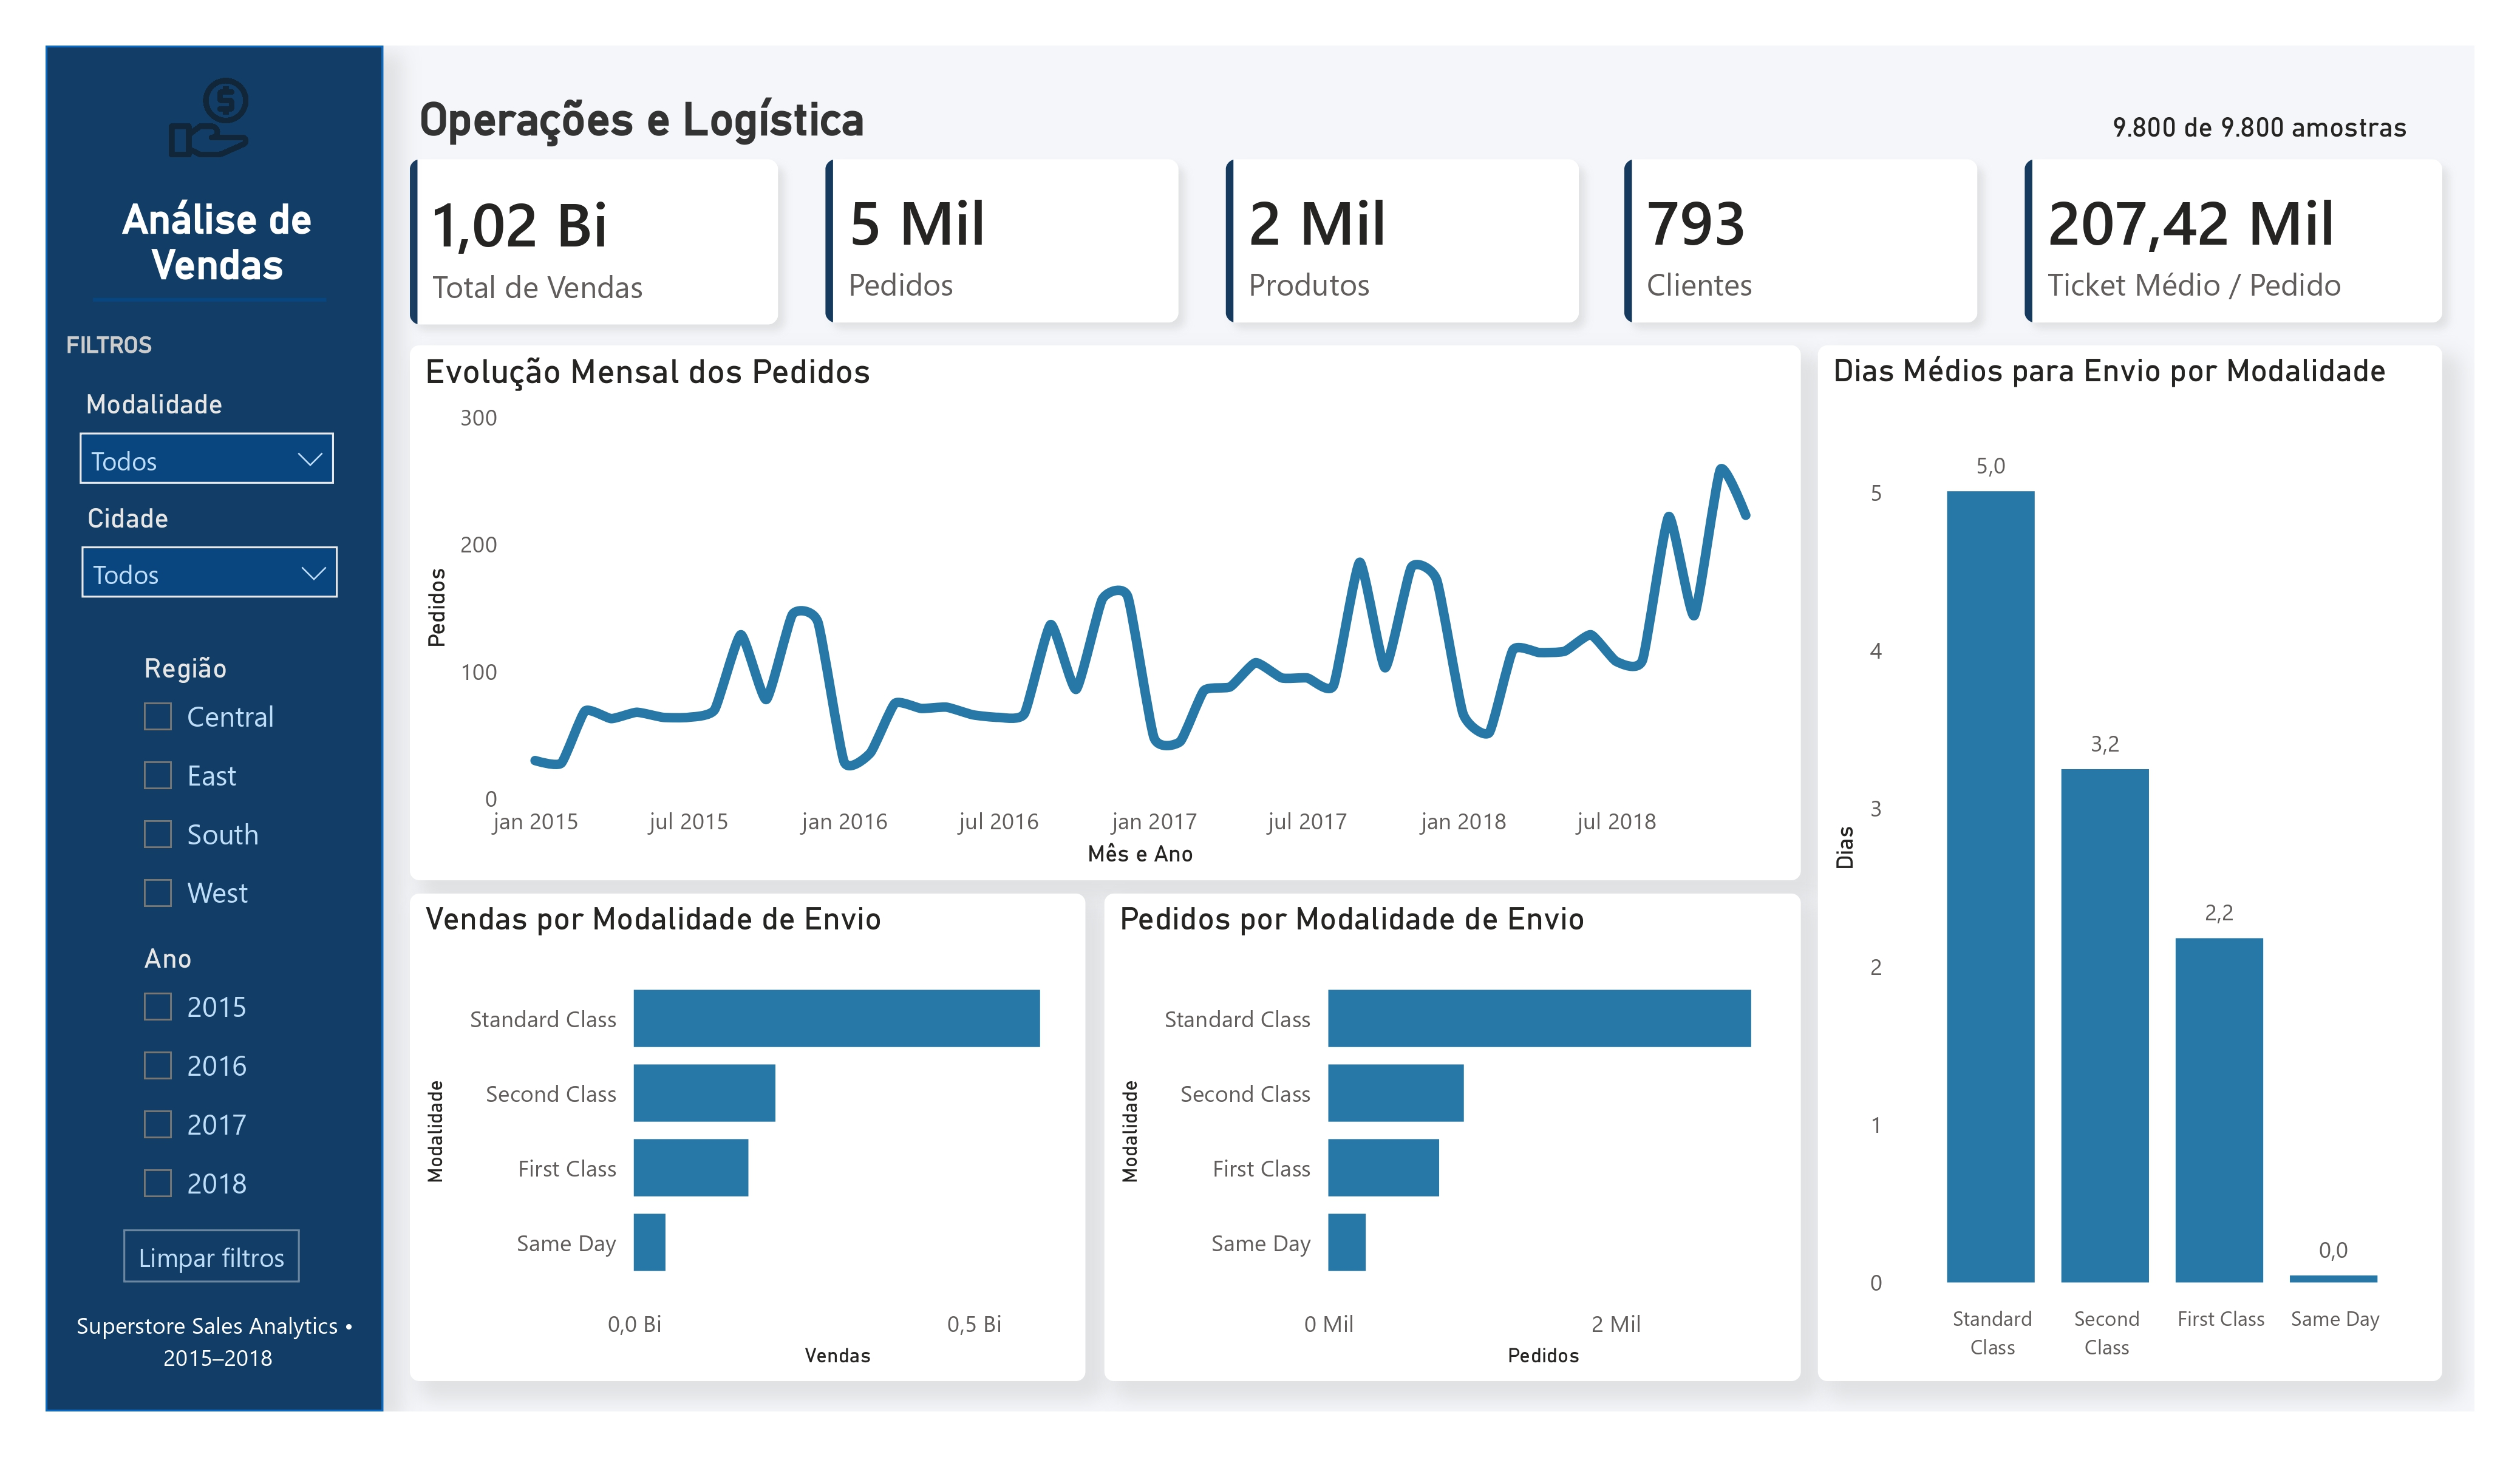

Layout of this report page (visuals, bound fields, positions):
{"tool":"powerbi","page":{"name":"Operações e Logística","canvas":[1280,720],"ordinal":3},"visuals":[{"type":"actionButton","box":[0,0,100,40],"z":0},{"type":"cardVisual","fields":{"Data":["Sum(superstore_sales.Vendas)"]},"box":[175,42.7,228.1,120.8],"z":1000},{"type":"cardVisual","fields":{"Data":["superstore_sales.Pedidos"]},"box":[393.9,42.7,220,120],"z":2000},{"type":"cardVisual","fields":{"Data":["superstore_sales.Clientes_Unico"]},"box":[815.3,42.7,220,120],"z":3000},{"type":"cardVisual","fields":{"Data":["superstore_sales.Produtos_Unico"]},"box":[604.6,42.7,220,120],"z":4000},{"type":"cardVisual","fields":{"Data":["superstore_sales.Ticket_Médio"]},"box":[1025.8,42.7,254.2,119.8],"z":5000},{"type":"shape","title":"Visão Geral","box":[0,0,178.2,719.5],"z":8000},{"type":"slicer","fields":{"Values":["superstore_sales.Região"]},"box":[39.5,314.6,100.4,168],"z":9000},{"type":"slicer","fields":{"Values":["superstore_sales.Cidade"]},"box":[9,235.7,154.5,78.9],"z":10000},{"type":"textbox","box":[1,660.4,180.2,54.2],"z":11000},{"type":"textbox","box":[6.2,74,168.8,68.8],"z":12000},{"type":"shape","box":[25,103.1,122.9,61.5],"z":13000},{"type":"image","box":[49,12.5,74,50],"z":14000},{"type":"textbox","box":[5.6,143.2,148.9,29.3],"z":15000},{"type":"slicer","fields":{"Values":["superstore_sales.Modalidade_Envio"]},"box":[7.9,175.9,154.5,78.9],"z":16000},{"type":"slicer","fields":{"Values":["superstore_sales.Ano_Realizado"]},"box":[39.5,468,100.4,168],"z":17000},{"type":"textbox","box":[191.7,19.8,312.5,54.2],"z":18000},{"type":"actionButton","box":[41,624,92.7,28.1],"z":19000},{"type":"cardVisual","fields":{"Data":["superstore_sales.Indicador de Amostras"]},"box":[1060.4,0,219.8,108.3],"z":20000},{"type":"lineChart","title":"Evolução Mensal dos Pedidos","fields":{"Category":["superstore_sales.MesdoAno_Realizado.Variation.Hierarquia de datas.Ano","superstore_sales.MesdoAno_Realizado.Variation.Hierarquia de datas.Mês"],"Y":["superstore_sales.Pedidos_Unico"]},"box":[191.7,158.3,733.3,281.2],"z":23001},{"type":"barChart","title":"Vendas por Modalidade de Envio","fields":{"Y":["Sum(superstore_sales.Vendas)"],"Category":["superstore_sales.Modalidade_Envio"]},"box":[191.7,446.9,356.2,257.3],"z":23002},{"type":"clusteredBarChart","title":"Pedidos por Modalidade de Envio","fields":{"Category":["superstore_sales.Modalidade_Envio"],"Y":["superstore_sales.Pedidos_Unico"]},"box":[558.3,446.9,366.7,257.3],"z":23003},{"type":"clusteredColumnChart","title":"Dias Médios para Envio por Modalidade","fields":{"Category":["superstore_sales.Modalidade_Envio"],"Y":["superstore_sales.Dias_Medios_Envio"]},"box":[934.4,158.3,328.1,545.8],"z":23004}]}

Visuals, with their boxes on the page's 1280x720 design canvas (x1, y1, x2, y2). These are canvas units, not pixel positions in the 2520x1457 screenshot, which may show the page scaled, cropped or inside an application window:
actionButton: [0,0,100,40]
cardVisual - Sum(superstore_sales.Vendas): [175,43,403,164]
cardVisual - superstore_sales.Pedidos: [394,43,614,163]
cardVisual - superstore_sales.Clientes_Unico: [815,43,1035,163]
cardVisual - superstore_sales.Produtos_Unico: [605,43,825,163]
cardVisual - superstore_sales.Ticket_Médio: [1026,43,1280,162]
"Visão Geral" shape: [0,0,178,720]
slicer - superstore_sales.Região: [40,315,140,483]
slicer - superstore_sales.Cidade: [9,236,164,315]
textbox: [1,660,181,715]
textbox: [6,74,175,143]
shape: [25,103,148,165]
image: [49,12,123,62]
textbox: [6,143,154,172]
slicer - superstore_sales.Modalidade_Envio: [8,176,162,255]
slicer - superstore_sales.Ano_Realizado: [40,468,140,636]
textbox: [192,20,504,74]
actionButton: [41,624,134,652]
cardVisual - superstore_sales.Indicador de Amostras: [1060,0,1280,108]
"Evolução Mensal dos Pedidos" lineChart: [192,158,925,440]
"Vendas por Modalidade de Envio" barChart: [192,447,548,704]
"Pedidos por Modalidade de Envio" clusteredBarChart: [558,447,925,704]
"Dias Médios para Envio por Modalidade" clusteredColumnChart: [934,158,1262,704]
